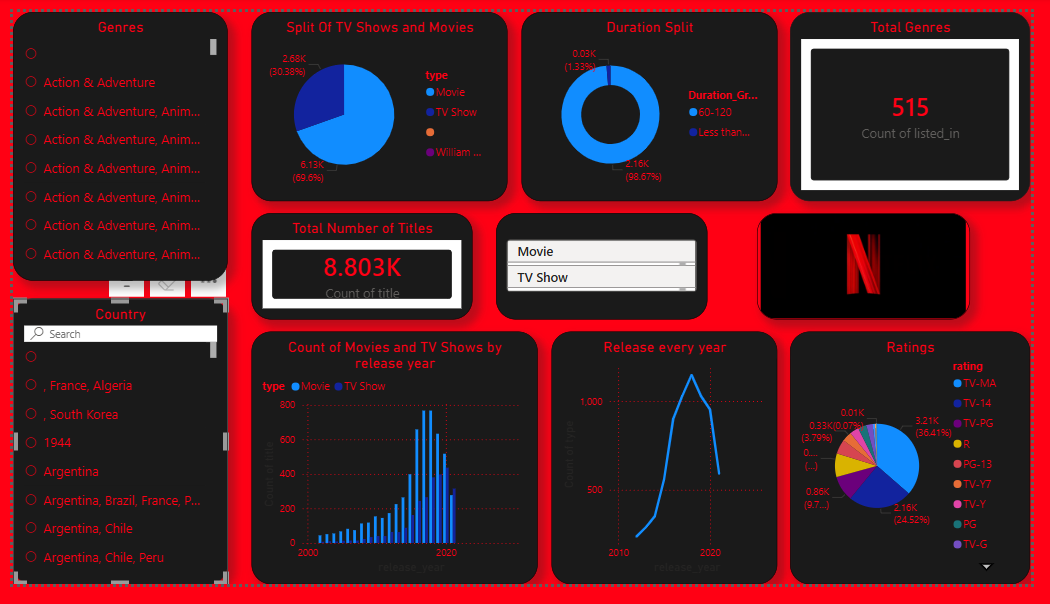

What the dashboard file says about the page in this screenshot:
{"tool":"powerbi","page":{"name":"Page 1","canvas":[1280,720],"ordinal":0},"visuals":[{"type":"pieChart","title":"Ratings","fields":{"Category":["netflix_titles.rating"],"Y":["CountNonNull(netflix_titles.rating)"]},"box":[978,402,302,318],"z":0},{"type":"cardVisual","title":"Total Genres","fields":{"Data":["Count(netflix_titles.listed_in)"]},"box":[978,0,302,238],"z":1000},{"type":"cardVisual","title":"Total Number of Titles","fields":{"Data":["Count(netflix_titles.title)"]},"box":[300,252,278,134],"z":2000},{"type":"pieChart","title":"Split Of TV Shows and Movies","fields":{"Category":["netflix_titles.type"],"Y":["CountNonNull(netflix_titles.type)"]},"box":[300,0,322,238],"z":3000},{"type":"donutChart","title":"Duration Split","fields":{"Category":["netflix_titles.Duration_Group"],"Y":["CountNonNull(netflix_titles.title)"]},"box":[640,0,322,238],"z":4000},{"type":"listSlicer","title":"Country","fields":{"Values":["netflix_titles.country"]},"box":[0,360,270,360],"z":5000},{"type":"lineChart","title":"Release every year","fields":{"Category":["netflix_titles.release_year"],"Y":["CountNonNull(netflix_titles.type)"]},"box":[678,402,284,318],"z":6000},{"type":"clusteredColumnChart","title":"Count of Movies and TV Shows by release year","fields":{"Category":["netflix_titles.release_year"],"Y":["CountNonNull(netflix_titles.title)"],"Series":["netflix_titles.type"]},"box":[300,402,360,318],"z":7000},{"type":"listSlicer","title":"Genres","fields":{"Values":["netflix_titles.listed_in"]},"box":[0,0,270,338],"z":8000},{"type":"cardVisual","fields":{"Data":["Count(netflix_titles.type)"],"Rows":["netflix_titles.type"]},"box":[608,252,266,134],"z":8001},{"type":"image","box":[936,252,268,134],"z":8002}]}

Visuals, with their boxes in screenshot pixels (x1, y1, x2, y2), scaled from the page's 1280x720 canvas onto the 1050x604 screenshot:
"Ratings" pieChart: <bbox>802, 337, 1049, 603</bbox>
"Total Genres" cardVisual: <bbox>802, 0, 1049, 200</bbox>
"Total Number of Titles" cardVisual: <bbox>246, 211, 474, 324</bbox>
"Split Of TV Shows and Movies" pieChart: <bbox>246, 0, 510, 200</bbox>
"Duration Split" donutChart: <bbox>525, 0, 789, 200</bbox>
"Country" listSlicer: <bbox>0, 302, 221, 603</bbox>
"Release every year" lineChart: <bbox>556, 337, 789, 603</bbox>
"Count of Movies and TV Shows by release year" clusteredColumnChart: <bbox>246, 337, 541, 603</bbox>
"Genres" listSlicer: <bbox>0, 0, 221, 284</bbox>
cardVisual - Count(netflix_titles.type) x netflix_titles.type: <bbox>499, 211, 717, 324</bbox>
image: <bbox>768, 211, 988, 324</bbox>
